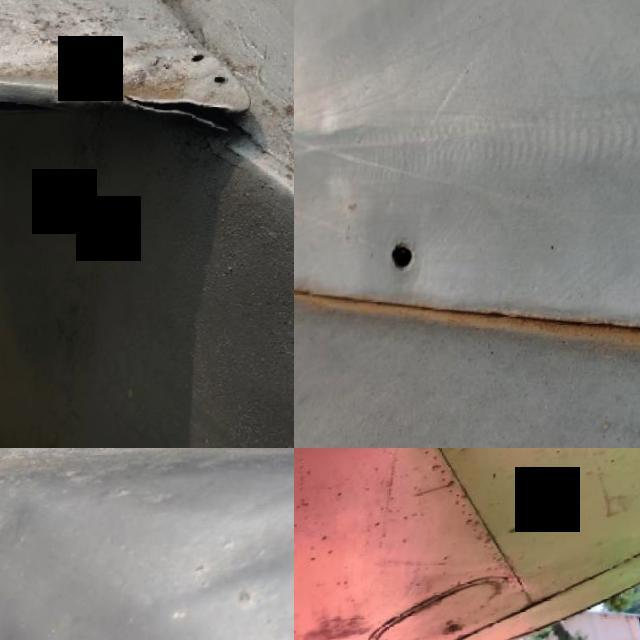Crack: (106, 82, 272, 172)
Dent: (0, 448, 294, 530), (145, 520, 294, 640), (213, 603, 294, 640)
Missing_Fastener: (368, 224, 442, 296)
